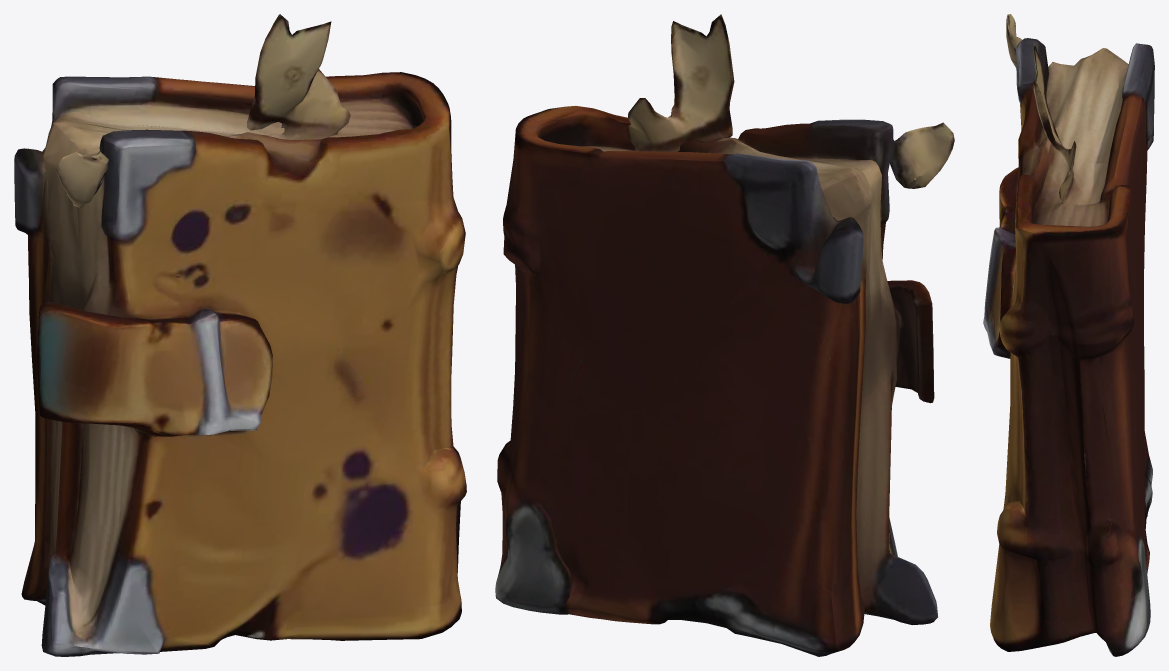
Rendered from apprentice_tome.glb.
The picture shows the model from 3 angles, left to right: view 1: azimuth 30°, elevation 25°; view 2: azimuth 150°, elevation 25°; view 3: azimuth 270°, elevation 25°; orthographic projection. The views are drawn at different scales.
Parts seen in each view (by area): view 1: world; view 2: world; view 3: world.
Part boxes in pixels (x1,y1,x2,y2): world: (14,14,466,656); world: (495,14,954,656); world: (983,14,1154,656).
Bounding box in the file's own units: 0.2136 × 0.3 × 0.0861.
Materials: 1 (1 with a texture image).
